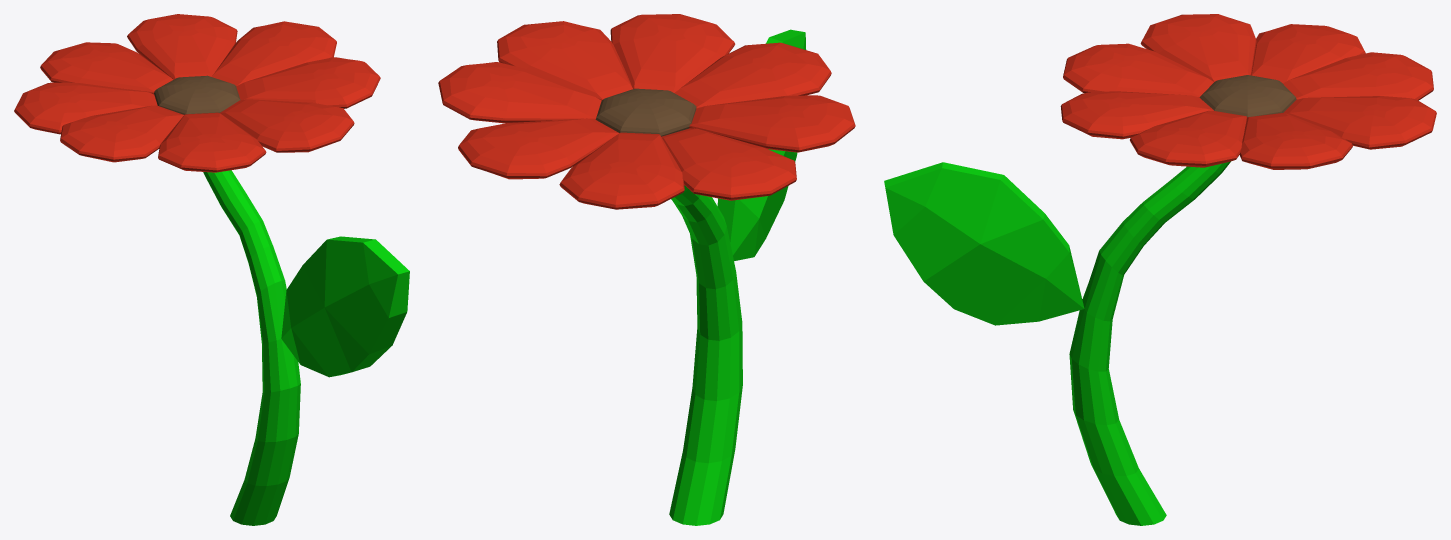
File: Flor.fbx
3 renders of one model, left to right at view 1: azimuth 30°, elevation 25°; view 2: azimuth 150°, elevation 25°; view 3: azimuth 270°, elevation 25°, orthographic. The views are drawn at different scales.
Visible parts, largest first — view 1: Cylinder, Sphere.002, Sphere.005, Sphere.004, Sphere.007, Sphere.003, Sphere.006, Sphere.001, Sphere.008, Sphere; view 2: Cylinder, Sphere.003, Sphere.001, Sphere.005, Sphere.002, Sphere.007, Sphere.004, Sphere.006, Sphere.008, Sphere; view 3: Cylinder, Sphere.002, Sphere.007, Sphere.006, Sphere.001, Sphere.005, Sphere.004, Sphere.003, Sphere.008, Sphere.
Boxes of the visible parts, x1,y1,x2,y2 form: Cylinder: [203, 170, 409, 525]; Sphere.002: [127, 14, 237, 79]; Sphere.005: [220, 99, 354, 152]; Sphere.004: [236, 57, 380, 108]; Sphere.007: [60, 105, 183, 162]; Sphere.003: [212, 21, 336, 85]; Sphere.006: [158, 112, 266, 172]; Sphere.001: [40, 42, 173, 94]; Sphere.008: [14, 82, 157, 134]; Sphere: [154, 75, 240, 114]; Cylinder: [669, 29, 806, 525]; Sphere.003: [438, 62, 601, 123]; Sphere.001: [559, 132, 684, 209]; Sphere.005: [610, 14, 735, 92]; Sphere.002: [458, 118, 618, 179]; Sphere.007: [689, 95, 855, 152]; Sphere.004: [497, 21, 632, 100]; Sphere.006: [674, 42, 831, 108]; Sphere.008: [661, 128, 796, 200]; Sphere: [595, 88, 696, 136]; Cylinder: [884, 161, 1230, 525]; Sphere.002: [1283, 96, 1436, 149]; Sphere.007: [1140, 14, 1256, 81]; Sphere.006: [1063, 43, 1213, 97]; Sphere.001: [1283, 52, 1433, 100]; Sphere.005: [1060, 91, 1213, 139]; Sphere.004: [1130, 110, 1246, 167]; Sphere.003: [1239, 113, 1352, 169]; Sphere.008: [1251, 24, 1365, 83]; Sphere: [1199, 75, 1296, 117].
Size of the model in its own units: 328 by 419 by 484.
